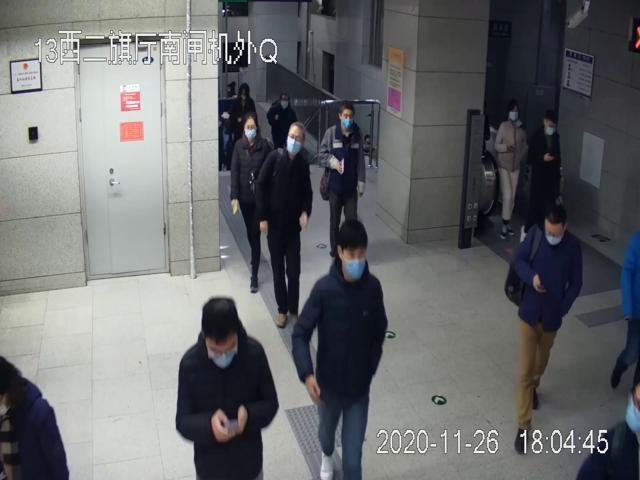person: (292, 220, 391, 480), (176, 296, 277, 480), (510, 204, 584, 452), (255, 120, 313, 329), (319, 103, 366, 265), (231, 115, 272, 293), (495, 101, 529, 237)
